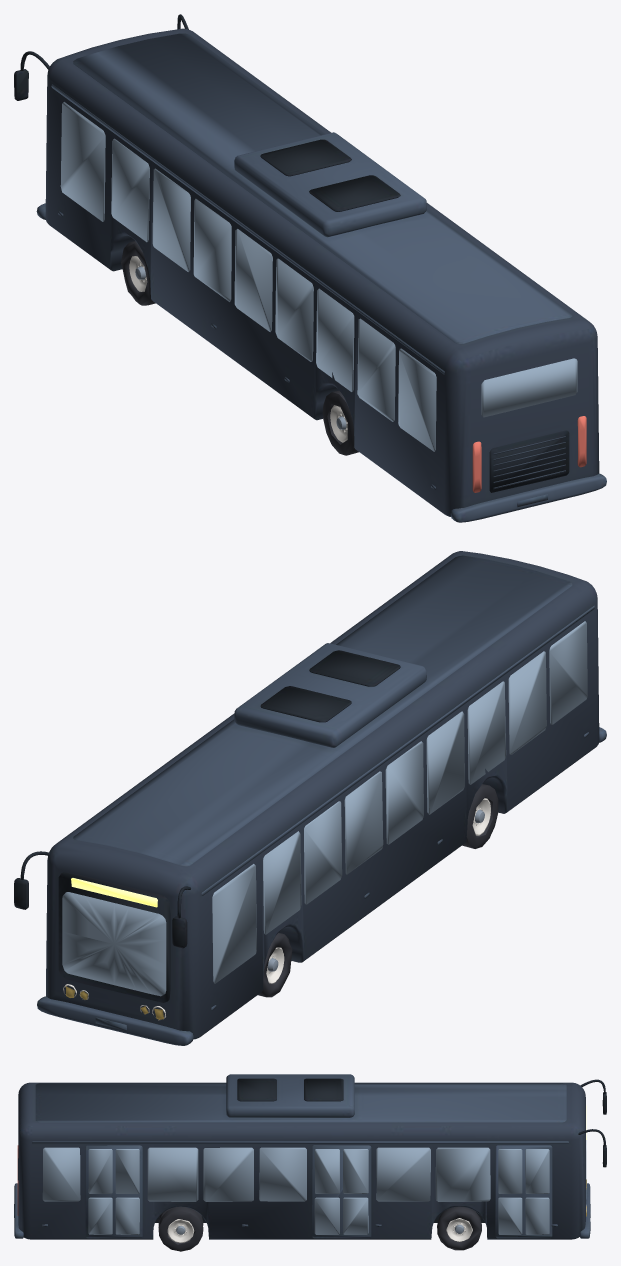
File: bus.glb
The picture shows the model from 3 angles, top to bottom: view 1: azimuth 30°, elevation 25°; view 2: azimuth 150°, elevation 25°; view 3: azimuth 270°, elevation 25°; orthographic projection. The views are drawn at different scales.
Parts seen in each view (by area): view 1: city-bus_body, city-bus_windows, city-bus_wheel_rl, city-bus_wheel_fl, city-bus_taillights; view 2: city-bus_body, city-bus_windows, city-bus_wheel_rl, city-bus_wheel_fl, city-bus_destination_display; view 3: city-bus_body, city-bus_windows, city-bus_door_windows, city-bus_wheel_rr, city-bus_wheel_fr.
Part boxes in pixels (box(x1,y1,x2,y2)): city-bus_body: box(14, 14, 606, 522); city-bus_windows: box(60, 102, 577, 451); city-bus_wheel_rl: box(322, 390, 358, 455); city-bus_wheel_fl: box(121, 241, 155, 305); city-bus_taillights: box(472, 416, 586, 492); city-bus_body: box(14, 551, 606, 1045); city-bus_windows: box(62, 621, 587, 996); city-bus_wheel_rl: box(462, 784, 498, 848); city-bus_wheel_fl: box(258, 932, 292, 997); city-bus_destination_display: box(71, 878, 157, 907); city-bus_body: box(14, 1074, 606, 1239); city-bus_windows: box(42, 1140, 586, 1201); city-bus_door_windows: box(88, 1149, 549, 1234); city-bus_wheel_rr: box(158, 1206, 203, 1251); city-bus_wheel_fr: box(437, 1206, 481, 1250).
Bounding box in the file's own units: 2.83 × 3.21 × 12.45.
8 materials, 1 textured.
